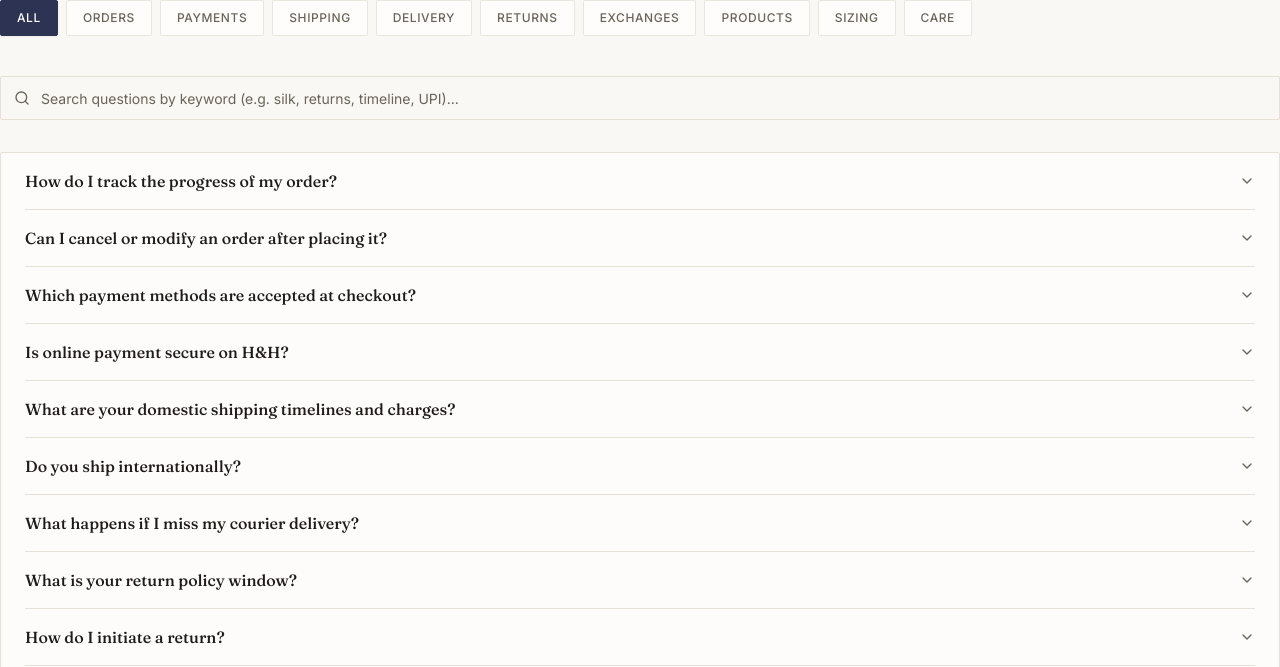
Test case: Frequently Asked Questions (/faq) › filters questions by category chip click
Click on "Care" category chip
Click the tab "Care" at point(938, 18), box [904,0,972,36]
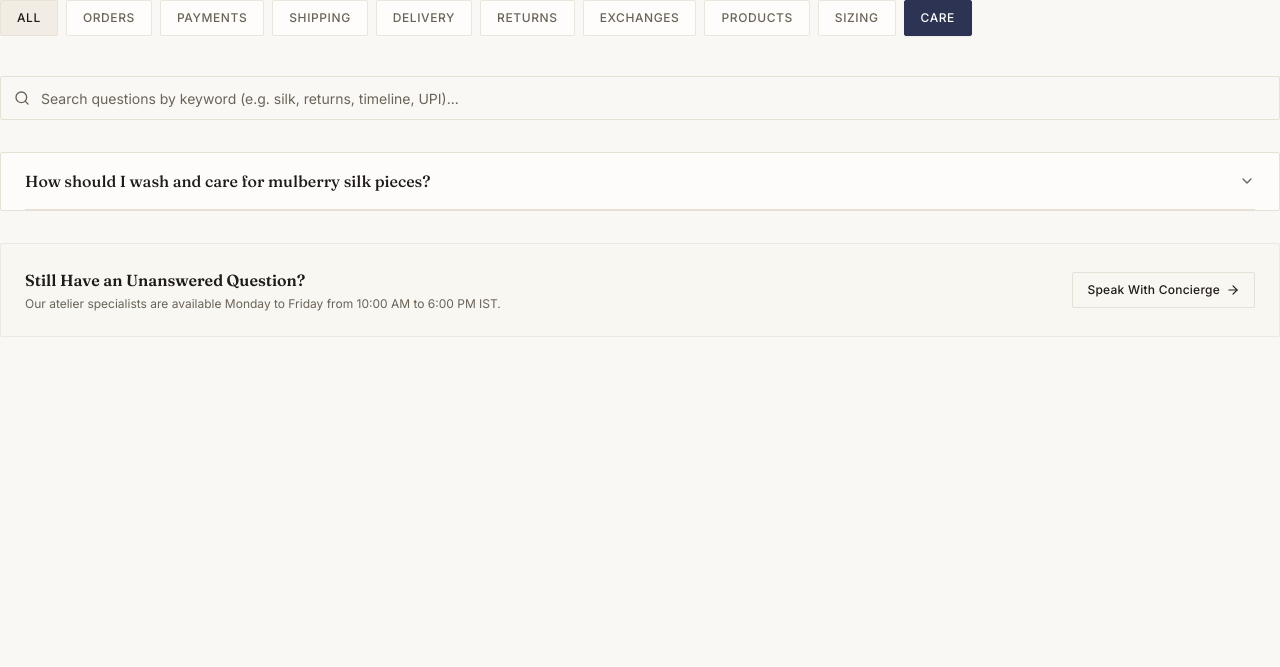
Expected: the button "How should I wash and care for mulberry silk pieces?" is shown, [25,153,1255,209]
Expected: the button "Which payment methods are accepted at checkout?" is gone
